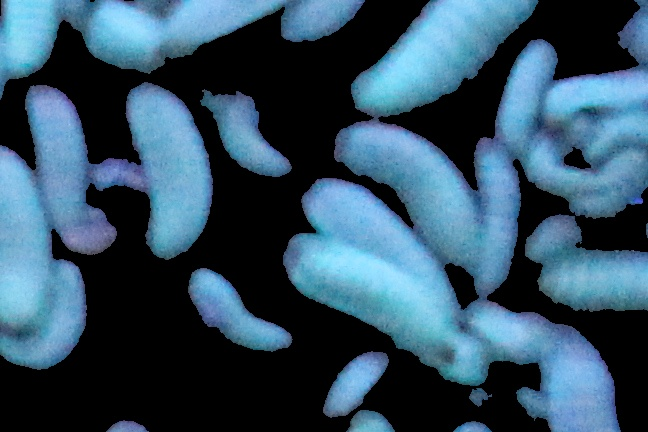larvae: (336, 117, 488, 280), (348, 1, 548, 120), (275, 229, 457, 356), (300, 174, 442, 281), (131, 82, 210, 259), (6, 255, 94, 376), (185, 270, 295, 363), (21, 86, 92, 220), (535, 321, 616, 432), (1, 141, 47, 324), (543, 243, 648, 322), (472, 135, 520, 294), (210, 90, 295, 175), (492, 41, 555, 142), (521, 137, 607, 205), (324, 339, 391, 421), (541, 69, 648, 118), (1, 1, 62, 79), (274, 1, 374, 44)
